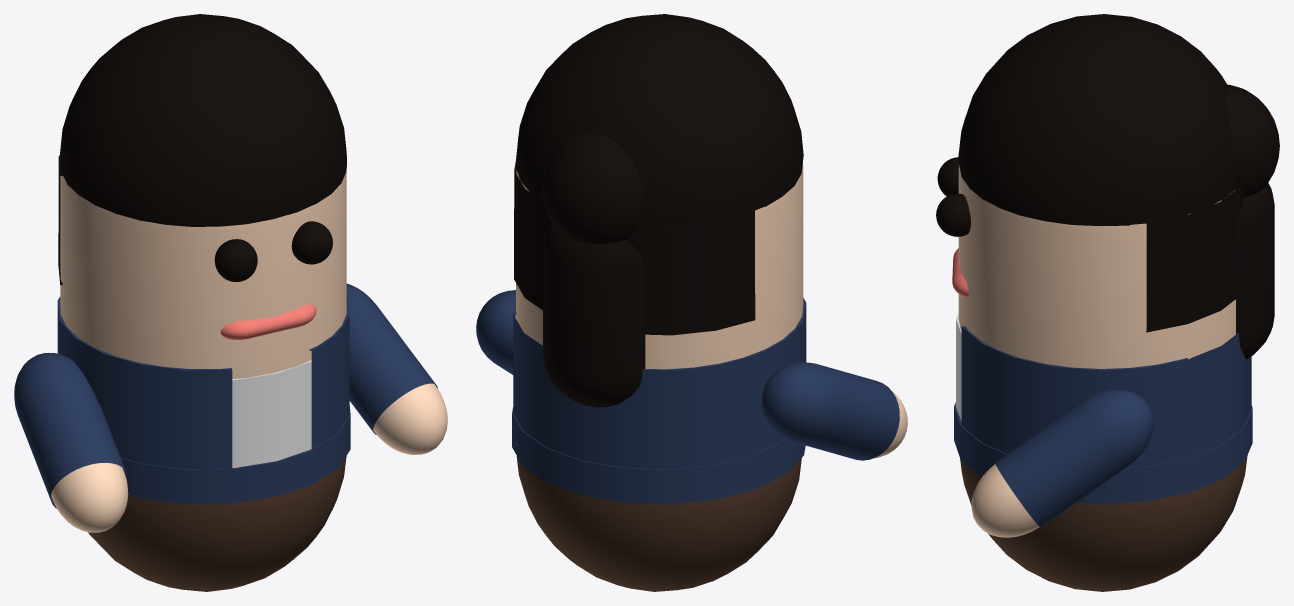
Rendered from adultfemale.fbx.
3 renders of one model, left to right at view 1: azimuth 30°, elevation 25°; view 2: azimuth 150°, elevation 25°; view 3: azimuth 270°, elevation 25°, orthographic.
Visible parts, largest first — view 1: Hair.002, Body.002, Vest.001, Pants_Lower.002, LeftSleeve.001, Pants_Upper.001, Shirt.004, RightSleeve.001, LeftArm.001, RightArm.001, Mouth.002, RightEye.002 (+1 smaller); view 2: Hair.002, Vest.001, Pants_Lower.002, Vest.002, Buttons.001, Body.002, LeftSleeve.001, Pants_Upper.001, Sphere, RightSleeve.001; view 3: Hair.002, Body.002, Vest.001, Pants_Lower.002, RightSleeve.001, Vest.002, Pants_Upper.001, Buttons.001, Sphere, RightArm.001, LeftEye.002, RightEye.002 (+2 smaller).
Boxes of the visible parts, x1,y1,x2,y2 form: Hair.002: [60, 14, 346, 226]; Body.002: [60, 170, 346, 378]; Vest.001: [57, 296, 349, 469]; Pants_Lower.002: [88, 456, 346, 591]; LeftSleeve.001: [14, 352, 127, 508]; Pants_Upper.001: [121, 406, 350, 503]; Shirt.004: [232, 360, 311, 467]; RightSleeve.001: [346, 283, 437, 434]; LeftArm.001: [51, 462, 128, 532]; RightArm.001: [373, 383, 447, 454]; Mouth.002: [220, 304, 316, 339]; RightEye.002: [214, 239, 257, 282]; Hair.002: [516, 14, 803, 225]; Vest.001: [513, 298, 806, 469]; Pants_Lower.002: [516, 456, 801, 591]; Vest.002: [514, 161, 755, 335]; Buttons.001: [543, 223, 645, 407]; Body.002: [516, 163, 803, 369]; LeftSleeve.001: [761, 362, 899, 460]; Pants_Upper.001: [512, 407, 805, 504]; Sphere: [542, 133, 644, 243]; RightSleeve.001: [476, 290, 515, 374]; Hair.002: [958, 14, 1237, 225]; Body.002: [958, 165, 1235, 368]; Vest.001: [961, 326, 1251, 467]; Pants_Lower.002: [960, 455, 1247, 591]; RightSleeve.001: [995, 389, 1153, 527]; Vest.002: [1146, 186, 1243, 332]; Pants_Upper.001: [954, 402, 1252, 503]; Buttons.001: [1236, 183, 1274, 359]; Sphere: [1226, 84, 1279, 196]; RightArm.001: [971, 464, 1039, 537]; LeftEye.002: [936, 193, 970, 236]; RightEye.002: [937, 157, 958, 196].
Bounding box in the file's own units: 155 × 210 × 119.
